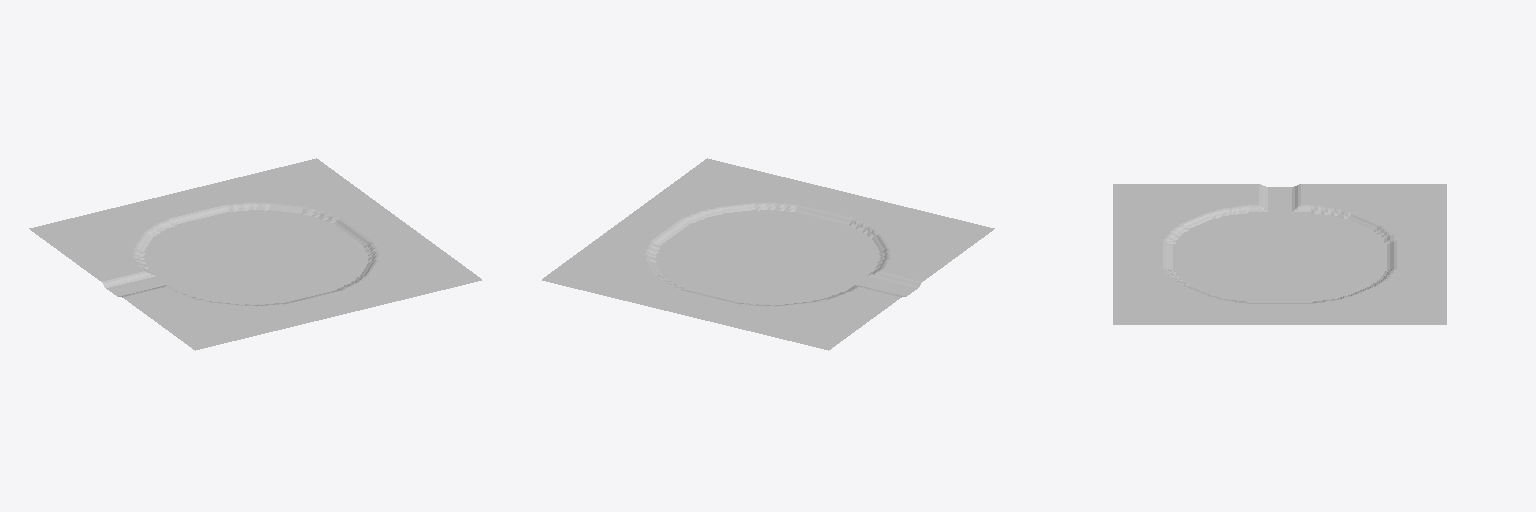
File: Terrain_Part_Plane_13.obj
The picture shows the model from 3 angles: view 1: azimuth 30°, elevation 25°; view 2: azimuth 150°, elevation 25°; view 3: azimuth 270°, elevation 25°; orthographic projection.
Visible parts, largest first — view 1: Terrain_Part_Plane_13_Plane.035; view 2: Terrain_Part_Plane_13_Plane.035; view 3: Terrain_Part_Plane_13_Plane.035.
Part boxes in pixels (left/top/right/bottom): Terrain_Part_Plane_13_Plane.035: left=29, top=158, right=481, bottom=350; Terrain_Part_Plane_13_Plane.035: left=542, top=158, right=994, bottom=350; Terrain_Part_Plane_13_Plane.035: left=1113, top=184, right=1446, bottom=324.
Size of the model in its own units: 20 by 0.2 by 20.